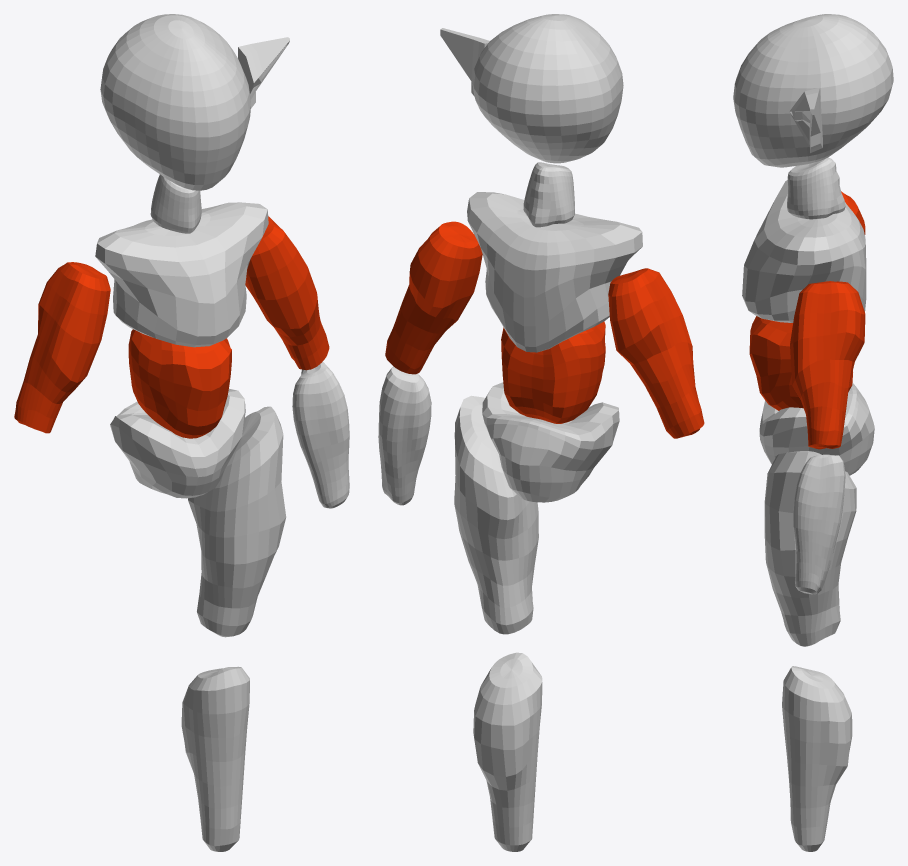
The model's file is body.glb.
3 renders of one model, left to right at view 1: azimuth 30°, elevation 25°; view 2: azimuth 150°, elevation 25°; view 3: azimuth 270°, elevation 25°, orthographic. The views are drawn at different scales.
Parts seen in each view (by area): view 1: head-1.001, torso-1.001, arms-upper-1.001, thighs-1.001, legs-lower-1.001, belly-1.001, hips-1.001, fore-arms-1.001, neck-1.001, ears-1.001; view 2: arms-upper-1.001, torso-1.001, head-1.001, thighs-1.001, legs-lower-1.001, hips-1.001, belly-1.001, fore-arms-1.001, neck-1.001, ears-1.001; view 3: head-1.001, torso-1.001, arms-upper-1.001, legs-lower-1.001, thighs-1.001, fore-arms-1.001, hips-1.001, belly-1.001, neck-1.001, ears-1.001.
Part boxes in pixels (x1,y1,x2,y2): head-1.001: (100, 14, 250, 190); torso-1.001: (95, 202, 268, 347); arms-upper-1.001: (14, 216, 329, 433); thighs-1.001: (188, 406, 286, 637); legs-lower-1.001: (181, 666, 249, 851); belly-1.001: (128, 329, 231, 438); hips-1.001: (110, 388, 245, 498); fore-arms-1.001: (292, 361, 349, 508); neck-1.001: (150, 174, 201, 233); ears-1.001: (238, 37, 289, 108); arms-upper-1.001: (385, 221, 704, 438); torso-1.001: (467, 192, 642, 352); head-1.001: (472, 14, 623, 163); thighs-1.001: (454, 395, 538, 634); legs-lower-1.001: (473, 652, 542, 851); hips-1.001: (482, 382, 619, 502); belly-1.001: (501, 321, 605, 423); fore-arms-1.001: (378, 366, 431, 505); neck-1.001: (523, 162, 574, 227); ears-1.001: (440, 28, 489, 96); head-1.001: (733, 14, 893, 167); torso-1.001: (742, 180, 866, 322); arms-upper-1.001: (790, 191, 865, 449); legs-lower-1.001: (782, 666, 852, 851); thighs-1.001: (764, 451, 856, 646); fore-arms-1.001: (793, 454, 845, 594); hips-1.001: (759, 383, 874, 475); belly-1.001: (749, 316, 852, 410); neck-1.001: (787, 157, 845, 219); ears-1.001: (789, 87, 822, 153).
Size of the model in its own units: 1.93 by 4.77 by 0.8554.
